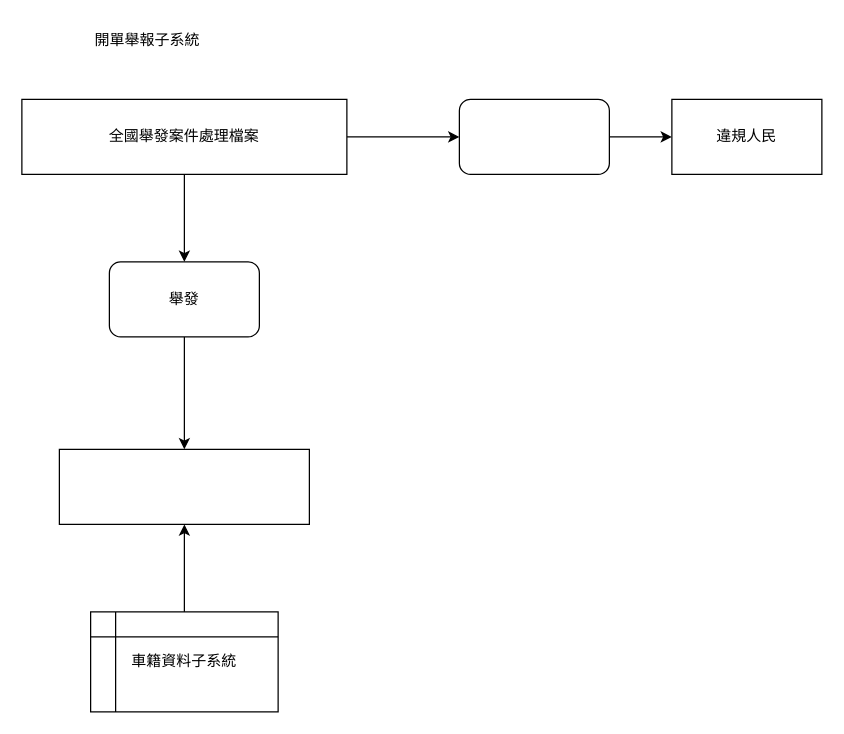
Image size: 844x734. Some labels were removed from this diagram. The box of each missing label's shape, as (x1, y1, x2, y2) in pixels:
管理員: (58, 448, 309, 524)
罰單: (458, 98, 609, 174)
